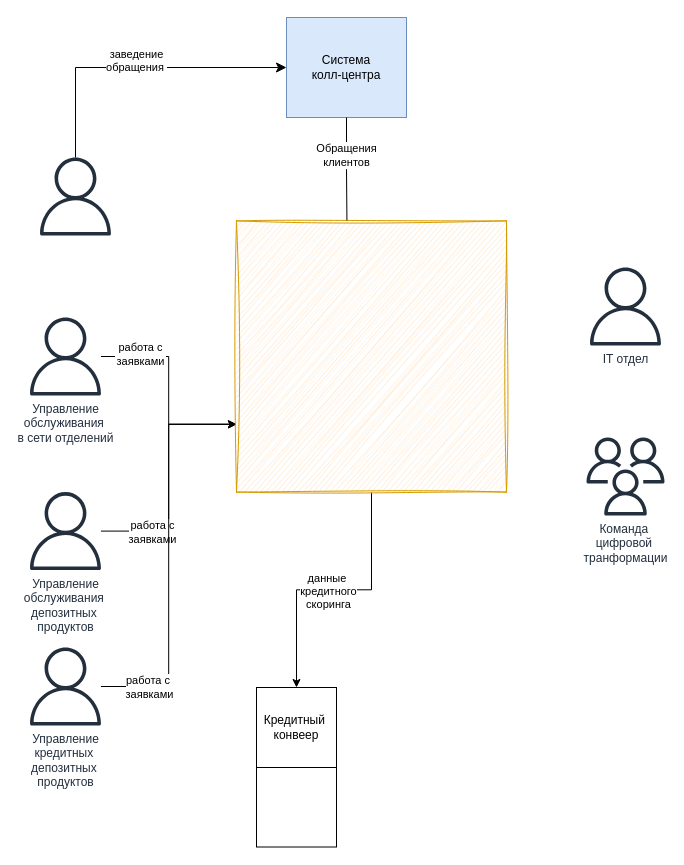
The diagram is 684 pixels wide and 865 high, and some of its shapes have lost their labels. The shapes that lost their labels are listed below. From the top down, each one's box as (x1, y1, x2, y2) in pixels, then its label:
(36, 157, 114, 235): Колл-центр
(236, 220, 506, 492): АБС
(256, 766, 336, 847): Система кредитного скоринга
